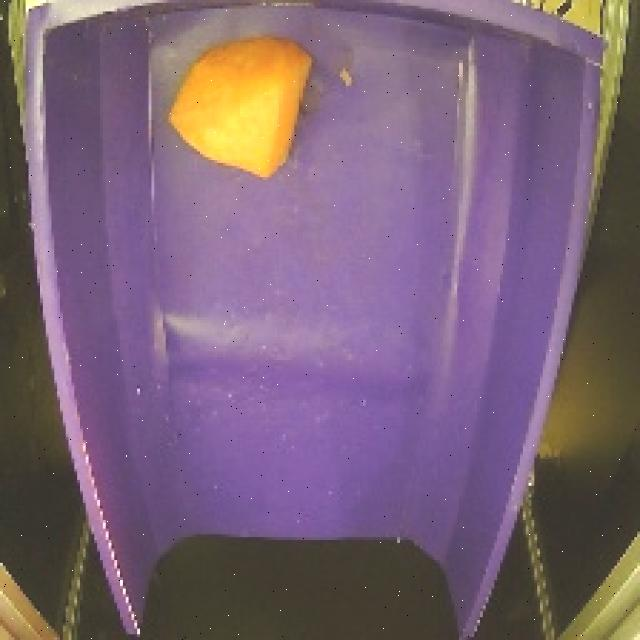carrots: (158, 35, 322, 184)
